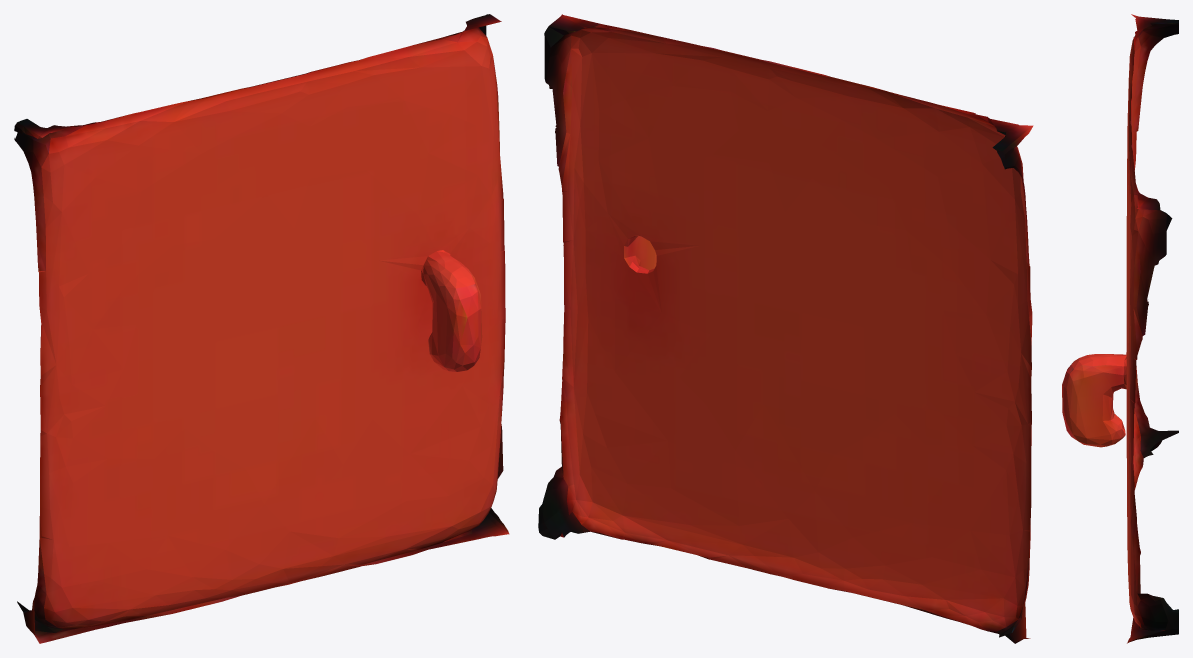
Rendered from door_top_left.glb.
3 renders of one model, left to right at view 1: azimuth 30°, elevation 25°; view 2: azimuth 150°, elevation 25°; view 3: azimuth 270°, elevation 25°, orthographic. The views are drawn at different scales.
Visible parts, largest first — view 1: source_surface_0; view 2: source_surface_0; view 3: source_surface_0.
Boxes of the visible parts, x1,y1,x2,y2 form: source_surface_0: [14, 14, 509, 643]; source_surface_0: [538, 14, 1033, 643]; source_surface_0: [1062, 14, 1178, 643].
Bounding box in the file's own units: 0.0773 × 0.0807 × 0.0196.
Materials: 1 (1 with a texture image).
